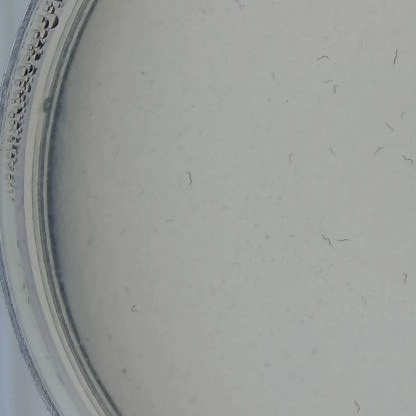worm: (315, 232, 334, 253), (181, 168, 195, 191), (336, 232, 352, 251), (388, 48, 402, 69), (125, 299, 139, 319), (315, 51, 332, 67), (350, 398, 362, 416), (285, 148, 295, 169), (382, 120, 397, 134), (371, 144, 386, 158), (231, 0, 246, 13), (329, 82, 343, 95), (268, 69, 280, 83), (400, 103, 409, 121), (401, 271, 413, 283), (320, 76, 333, 87), (328, 143, 338, 157), (360, 293, 368, 309)
